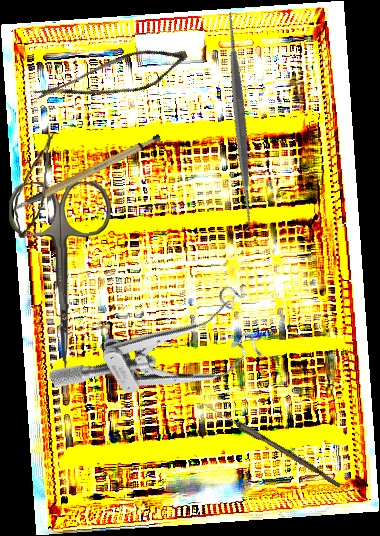Iris Scissors: (8, 181, 114, 370)
Micro Scissor: (30, 23, 193, 136), (11, 128, 56, 240)
Scalpel Handle: (4, 131, 168, 212)
Spatula Surgical: (124, 5, 355, 235)
Speculum: (47, 266, 280, 454)
Surgical Spoon: (199, 400, 344, 488)
